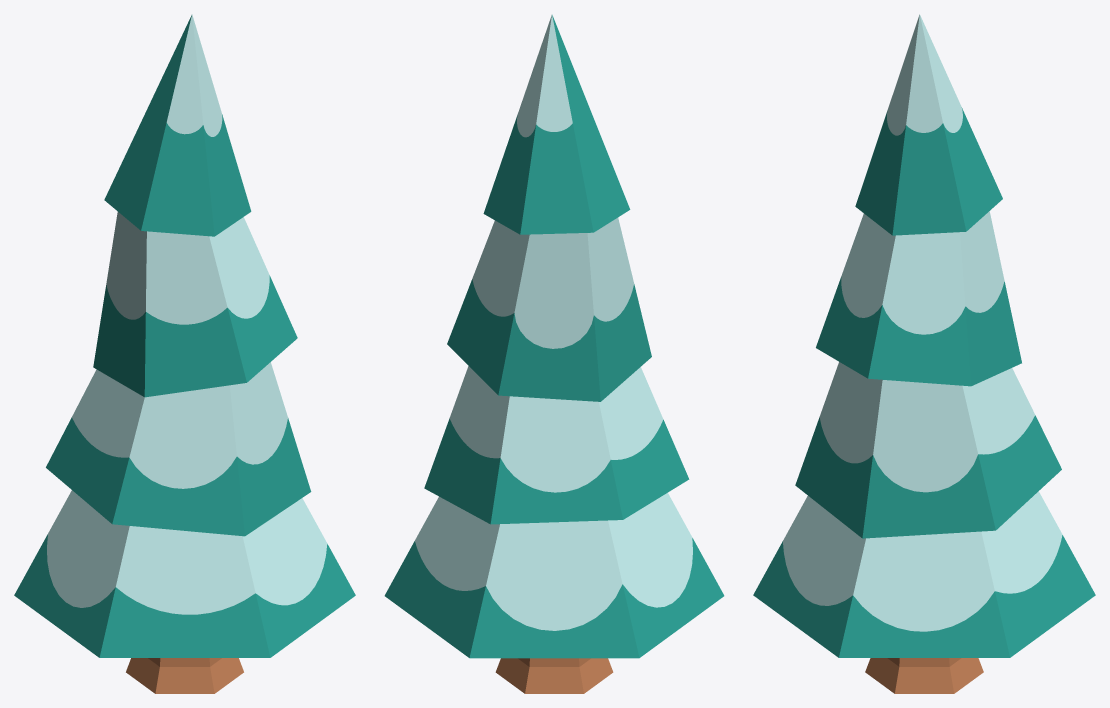
Rendered from treePineSnowRound.fbx.
3 views of the same model, side by side, from view 1: azimuth 30°, elevation 25°; view 2: azimuth 150°, elevation 25°; view 3: azimuth 270°, elevation 25° (orthographic).
Visible parts, largest first — view 1: treePineSnowRound; view 2: treePineSnowRound; view 3: treePineSnowRound.
Part boxes in pixels (x1=…): treePineSnowRound: x1=14, y1=14, x2=355, y2=693; treePineSnowRound: x1=384, y1=14, x2=724, y2=693; treePineSnowRound: x1=753, y1=14, x2=1095, y2=693.
Size of the model in its own units: 6.51 by 15.98 by 7.52.
